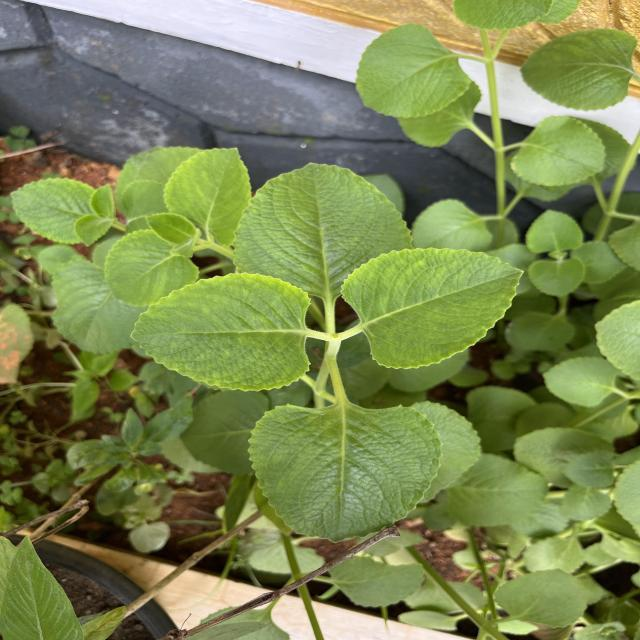Plectranthus barbatus: (248, 402, 444, 544), (340, 247, 524, 371), (130, 271, 313, 394), (230, 161, 416, 275), (354, 22, 472, 120), (518, 27, 638, 113), (162, 146, 253, 247), (50, 262, 141, 354), (104, 228, 201, 308), (446, 452, 547, 527), (510, 115, 608, 188), (10, 176, 100, 246), (494, 566, 584, 630), (541, 355, 621, 408), (525, 209, 584, 254), (527, 258, 586, 298)
